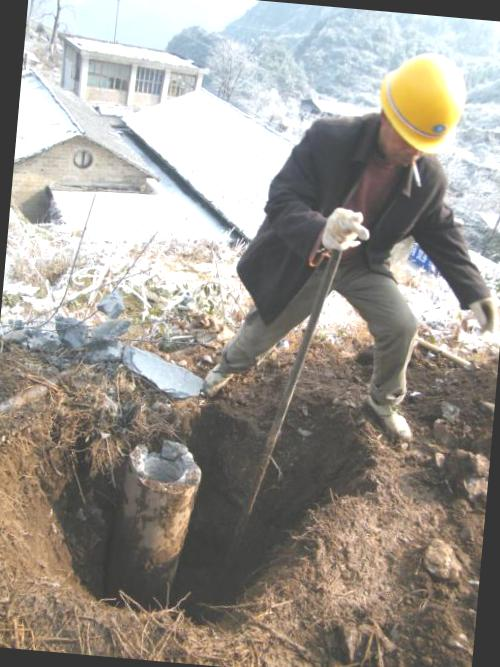person: (197, 32, 500, 444)
